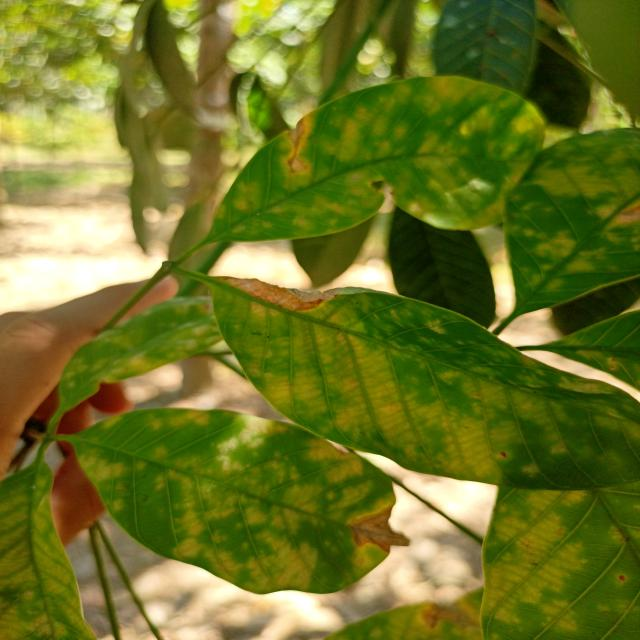Leaf-Blight: (217, 277, 338, 313), (350, 506, 411, 552)
